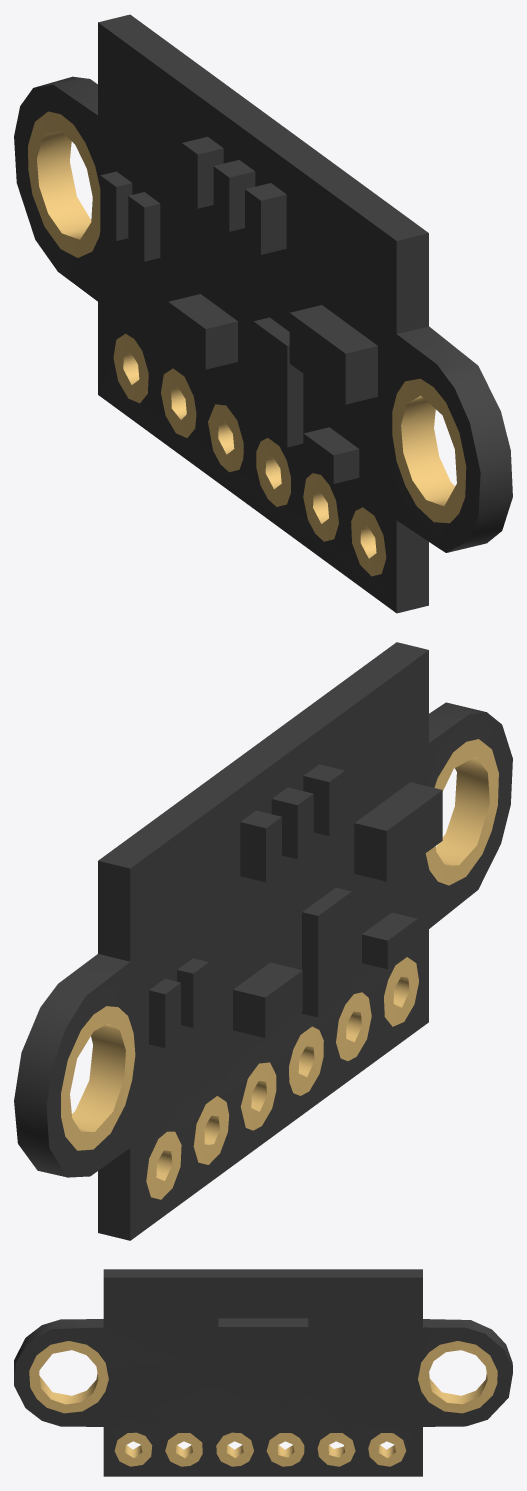
File: vl53l0x_PCB.obj
The picture shows the model from 3 angles, top to bottom: view 1: azimuth 30°, elevation 25°; view 2: azimuth 150°, elevation 25°; view 3: azimuth 270°, elevation 25°; orthographic projection. The views are drawn at different scales.
Parts seen in each view (by area): view 1: vl53l0x_PCB; view 2: vl53l0x_PCB; view 3: vl53l0x_PCB.
Part boxes in pixels (<box>): vl53l0x_PCB: <box>14,14,512,613</box>; vl53l0x_PCB: <box>14,642,512,1240</box>; vl53l0x_PCB: <box>14,1269,512,1476</box>.
Bounding box in the file's own units: 0.003 × 0.011 × 0.025.
